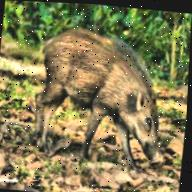boar: (22, 21, 172, 169)
